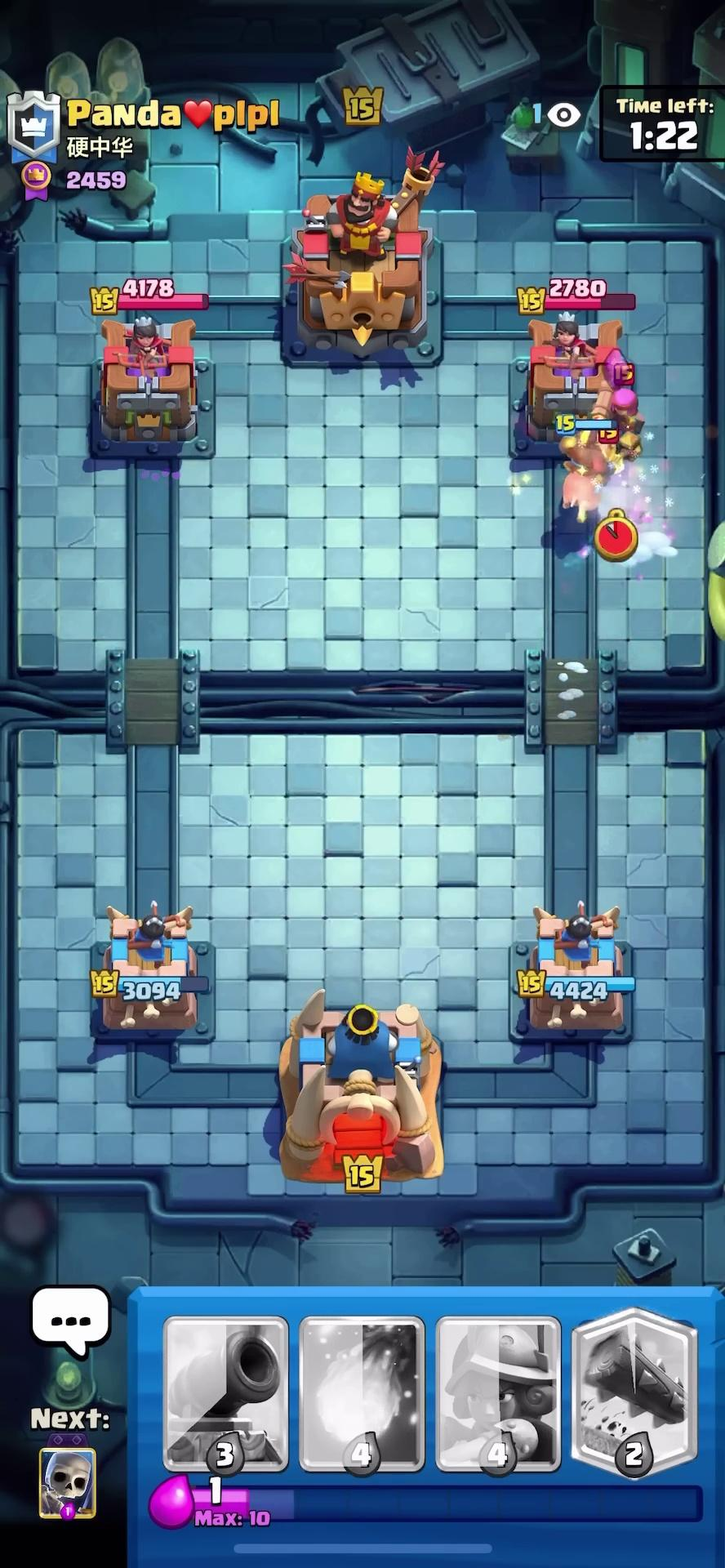hog_rider: (541, 412, 631, 525)
